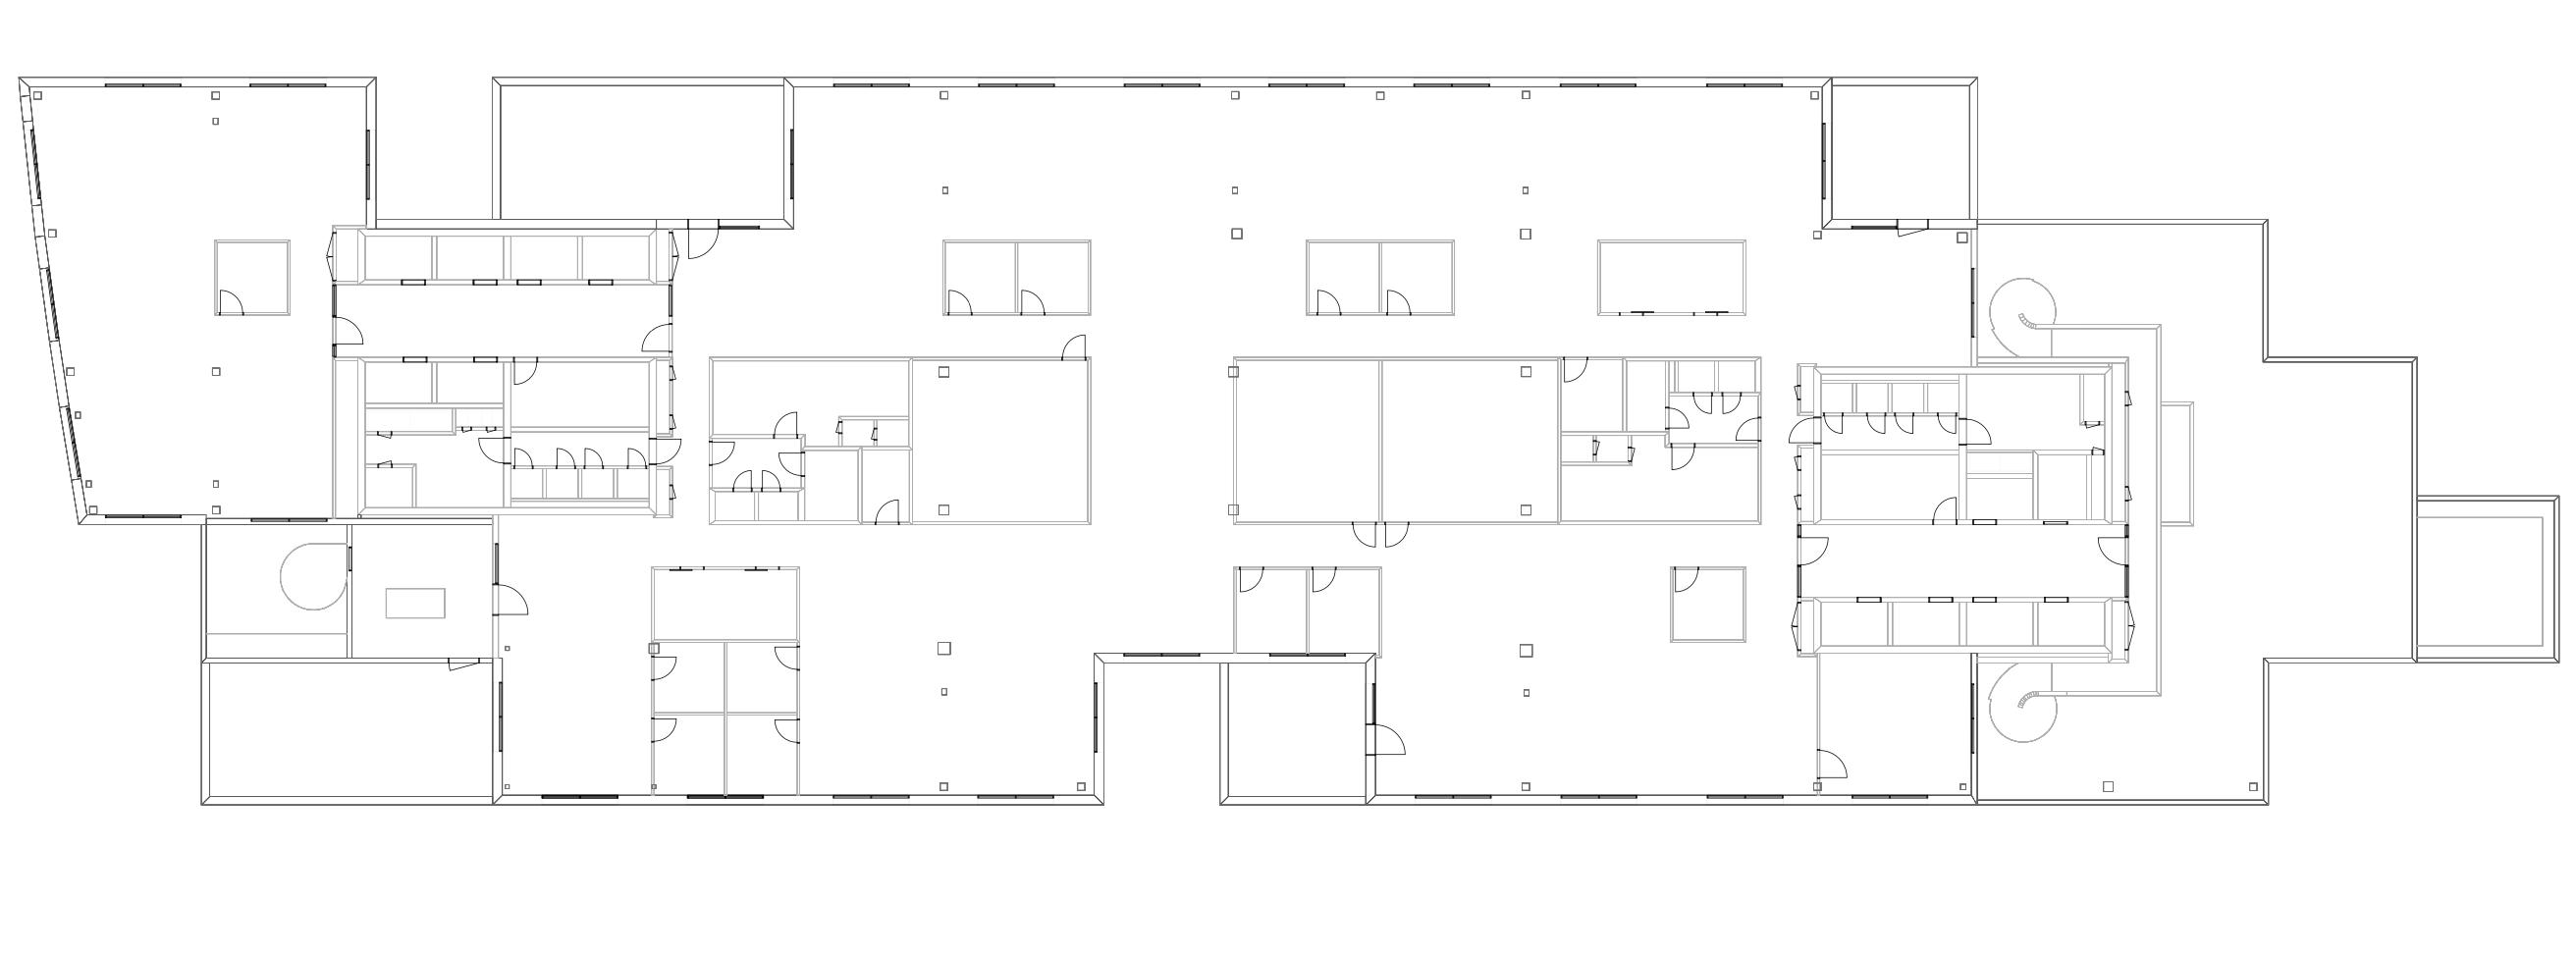room: (28, 80, 368, 516), (207, 662, 496, 798), (501, 85, 784, 220), (1382, 358, 1559, 522), (913, 360, 1088, 522), (337, 284, 670, 356), (1235, 358, 1380, 522), (1799, 524, 2127, 596), (2417, 496, 2555, 657), (1819, 654, 1971, 795), (352, 522, 494, 659), (207, 524, 348, 659), (1832, 84, 1970, 220), (1227, 662, 1365, 795), (713, 360, 908, 447), (1562, 435, 1758, 521), (365, 430, 504, 508), (1967, 373, 2104, 450), (1600, 241, 1745, 314), (654, 568, 797, 641), (511, 361, 649, 425), (1822, 455, 1960, 519), (1235, 567, 1306, 654), (1309, 567, 1380, 652), (654, 715, 724, 795), (726, 715, 797, 795), (215, 240, 289, 314), (1308, 240, 1380, 314), (1382, 241, 1454, 314), (1672, 568, 1745, 641), (652, 642, 724, 713), (1019, 241, 1089, 312), (726, 642, 797, 713), (946, 241, 1015, 314), (1822, 416, 1958, 450), (1561, 358, 1623, 432), (511, 432, 649, 465), (713, 439, 802, 486), (1669, 396, 1758, 444), (805, 450, 858, 521), (863, 448, 908, 521), (582, 235, 651, 279), (2039, 455, 2086, 519), (511, 235, 578, 279), (1967, 601, 2034, 646), (366, 235, 432, 279), (1822, 601, 1888, 646), (1893, 601, 1958, 646), (2039, 601, 2104, 646), (437, 237, 503, 279), (1626, 360, 1666, 430), (1967, 478, 2032, 519), (366, 363, 432, 402), (437, 363, 503, 402), (365, 407, 452, 432), (366, 463, 416, 506), (1967, 452, 2032, 473), (1674, 360, 1715, 393), (1797, 445, 1814, 522), (1718, 360, 1756, 393), (759, 491, 798, 521), (716, 491, 754, 521), (337, 228, 356, 281), (545, 467, 578, 498), (582, 467, 614, 498), (455, 407, 503, 427), (511, 468, 542, 498), (618, 468, 649, 498), (1822, 383, 1853, 412), (1856, 383, 1888, 412), (1893, 383, 1924, 412), (1927, 383, 1958, 412), (1561, 435, 1594, 462), (843, 419, 874, 445), (1597, 435, 1628, 462), (877, 419, 907, 445), (1799, 366, 1814, 412)
